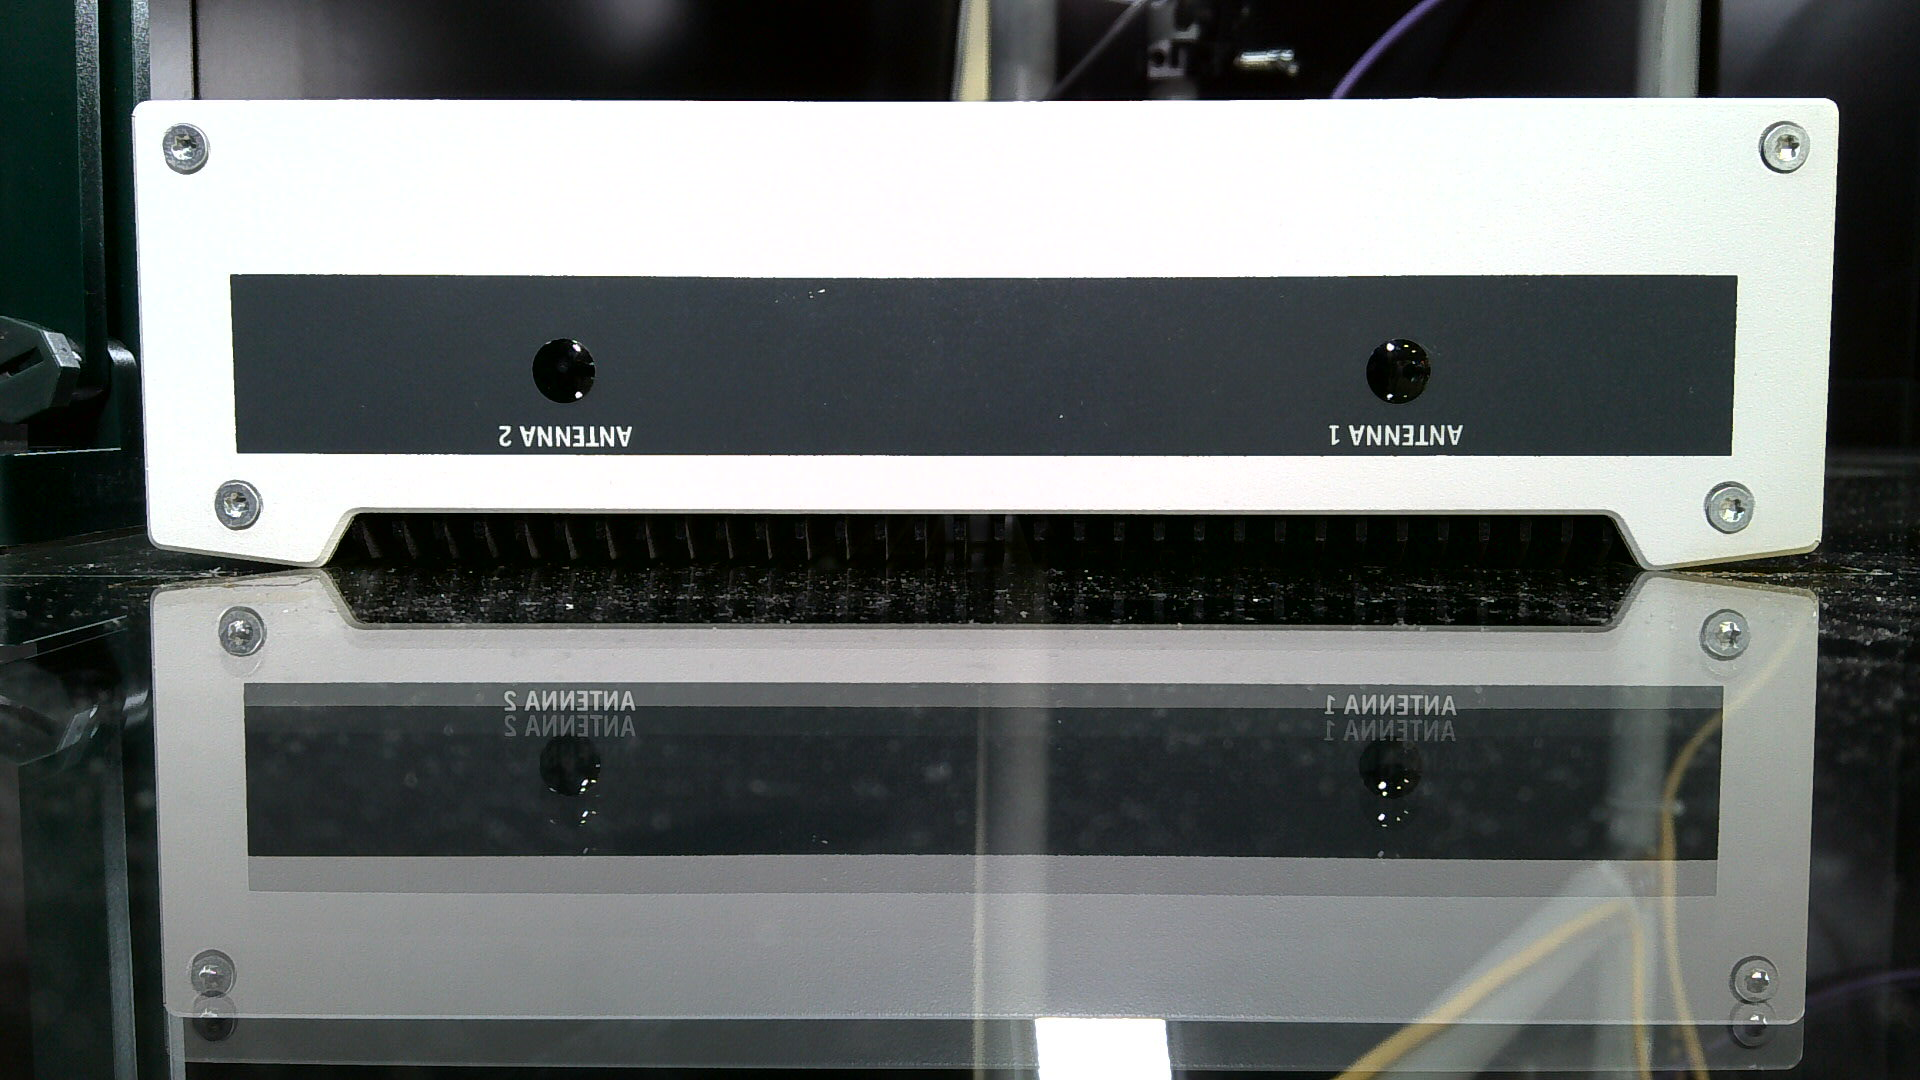CamBack: (88, 66, 1882, 574)
Schraube_gespiegelt: (1718, 949, 1787, 1054), (179, 942, 244, 1050), (210, 600, 273, 688), (1692, 603, 1755, 690)
Schraube_halb: (1695, 473, 1762, 541), (1751, 115, 1818, 182), (153, 115, 219, 183), (204, 472, 269, 539)
